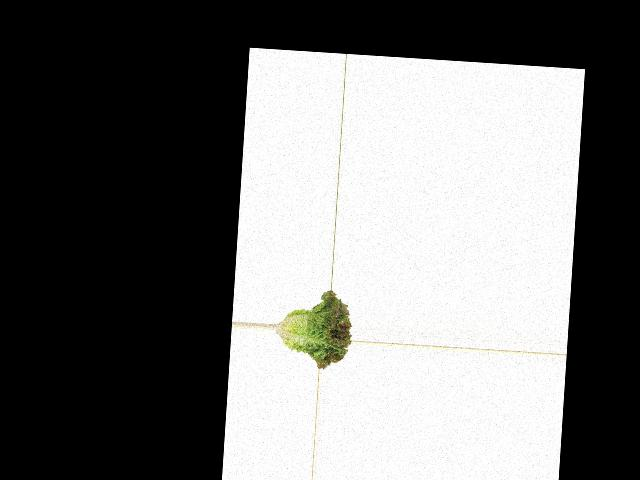lettuce: (273, 286, 353, 370)
